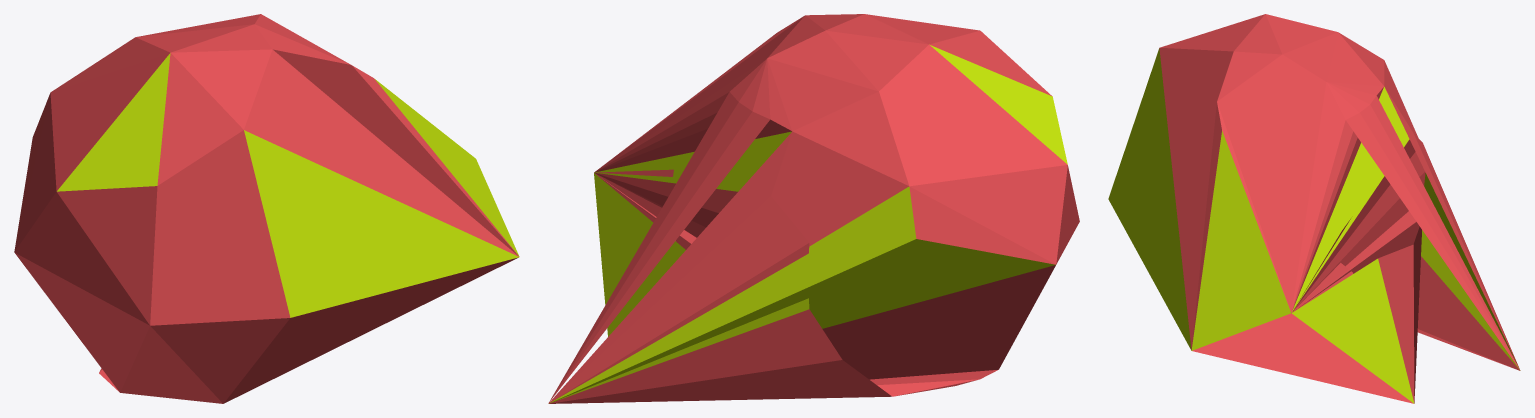
Rendered from Vomit.fbx.
3 renders of one model, left to right at view 1: azimuth 30°, elevation 25°; view 2: azimuth 150°, elevation 25°; view 3: azimuth 270°, elevation 25°, orthographic. The views are drawn at different scales.
Parts seen in each view (by area): view 1: Sphere; view 2: Sphere; view 3: Sphere.
Boxes of the visible parts, <box> form: Sphere: <box>14,14,519,403</box>; Sphere: <box>548,14,1079,403</box>; Sphere: <box>1108,14,1520,403</box>.
Bounding box in the file's own units: 283 × 203 × 257.
